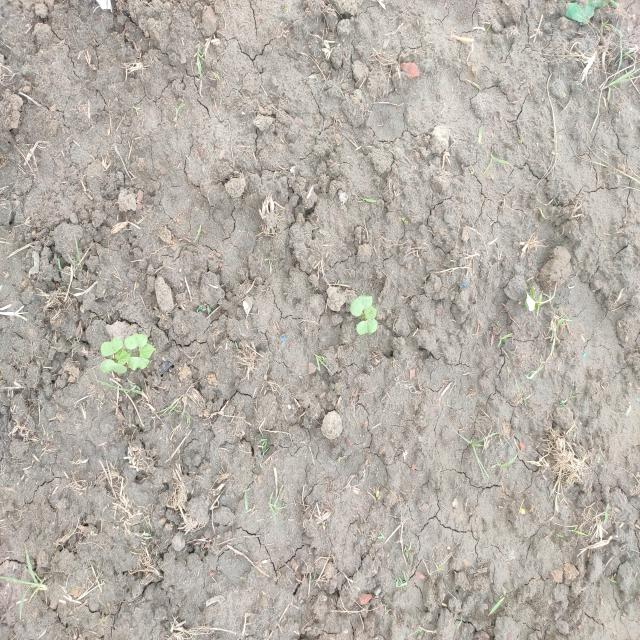seedling: (350, 295, 373, 316), (100, 337, 123, 356), (124, 333, 148, 349), (100, 360, 127, 373), (356, 319, 377, 334), (128, 356, 149, 370), (139, 343, 157, 358), (115, 349, 132, 364), (364, 306, 377, 319)
